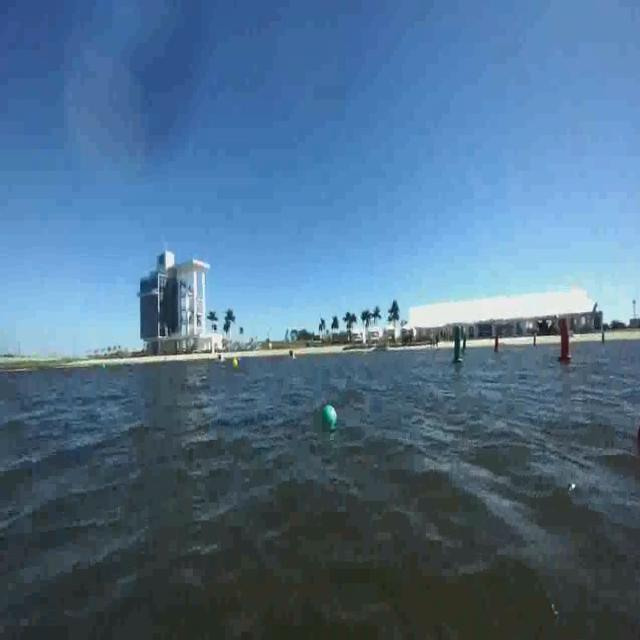green-buoy: (322, 407, 338, 431)
green-column-buoy: (452, 324, 466, 366)
red-column-buoy: (558, 318, 573, 365), (493, 335, 501, 354)
yellow-buoy: (234, 357, 241, 369)
